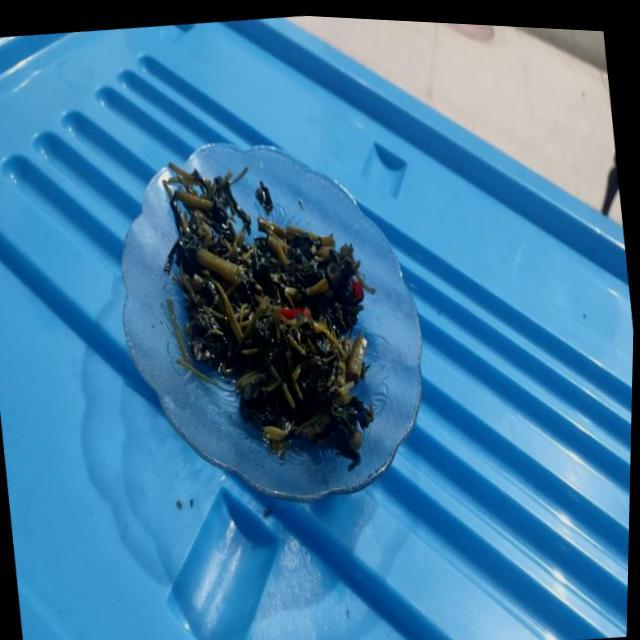tumis_kangkung: (163, 163, 374, 464)
